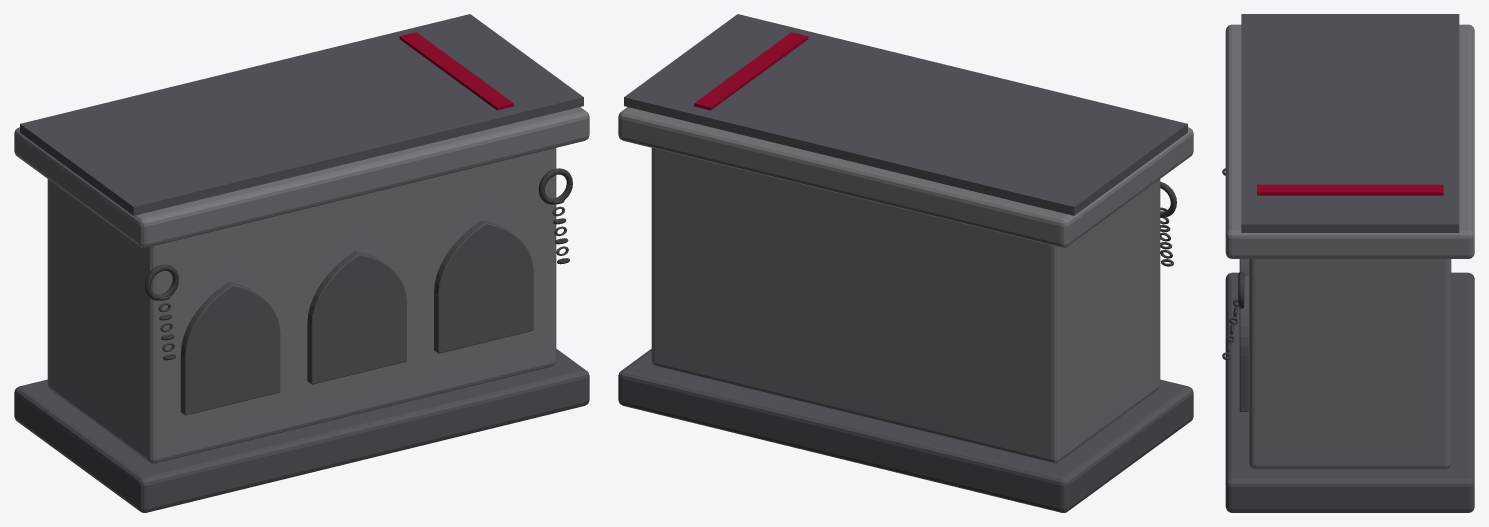
The model's file is altar_sacrificial.glb.
The picture shows the model from 3 angles, left to right: view 1: azimuth 30°, elevation 25°; view 2: azimuth 150°, elevation 25°; view 3: azimuth 270°, elevation 25°; orthographic projection. The views are drawn at different scales.
Visible parts, largest first — view 1: GD_altar_sacrificial__m0, GD_altar_sacrificial__m1, GD_altar_sacrificial__m2, GD_altar_sacrificial__m3; view 2: GD_altar_sacrificial__m1, GD_altar_sacrificial__m0, GD_altar_sacrificial__m3, GD_altar_sacrificial__m2; view 3: GD_altar_sacrificial__m0, GD_altar_sacrificial__m1, GD_altar_sacrificial__m3, GD_altar_sacrificial__m2.
Part boxes in pixels (left/top/right/bottom): GD_altar_sacrificial__m0: left=14, top=14, right=589, bottom=512; GD_altar_sacrificial__m1: left=14, top=107, right=589, bottom=463; GD_altar_sacrificial__m2: left=144, top=168, right=572, bottom=360; GD_altar_sacrificial__m3: left=399, top=32, right=513, bottom=110; GD_altar_sacrificial__m1: left=618, top=107, right=1193, bottom=463; GD_altar_sacrificial__m0: left=618, top=14, right=1193, bottom=512; GD_altar_sacrificial__m3: left=694, top=32, right=808, bottom=110; GD_altar_sacrificial__m2: left=1160, top=181, right=1176, bottom=266; GD_altar_sacrificial__m0: left=1225, top=14, right=1474, bottom=512; GD_altar_sacrificial__m1: left=1225, top=24, right=1474, bottom=469; GD_altar_sacrificial__m3: left=1257, top=184, right=1443, bottom=195; GD_altar_sacrificial__m2: left=1222, top=168, right=1244, bottom=360.
Bounding box in the file's own units: 1.6 × 1.04 × 0.8112.
